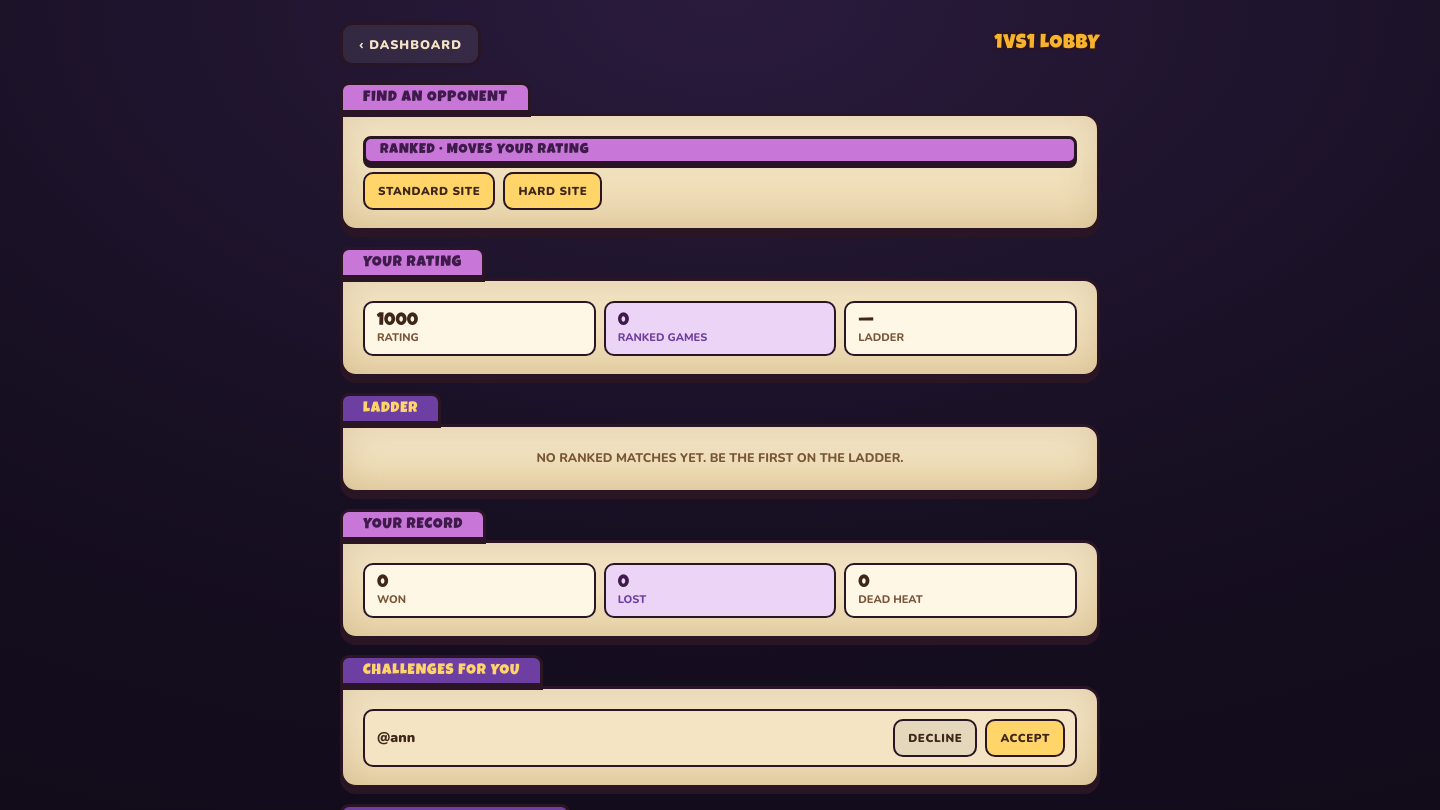
Test: MatchLobby › does not open a challenge the server would not let you accept
Click the button "ACCEPT".
click(1025, 738)  # box [985,719,1065,757]
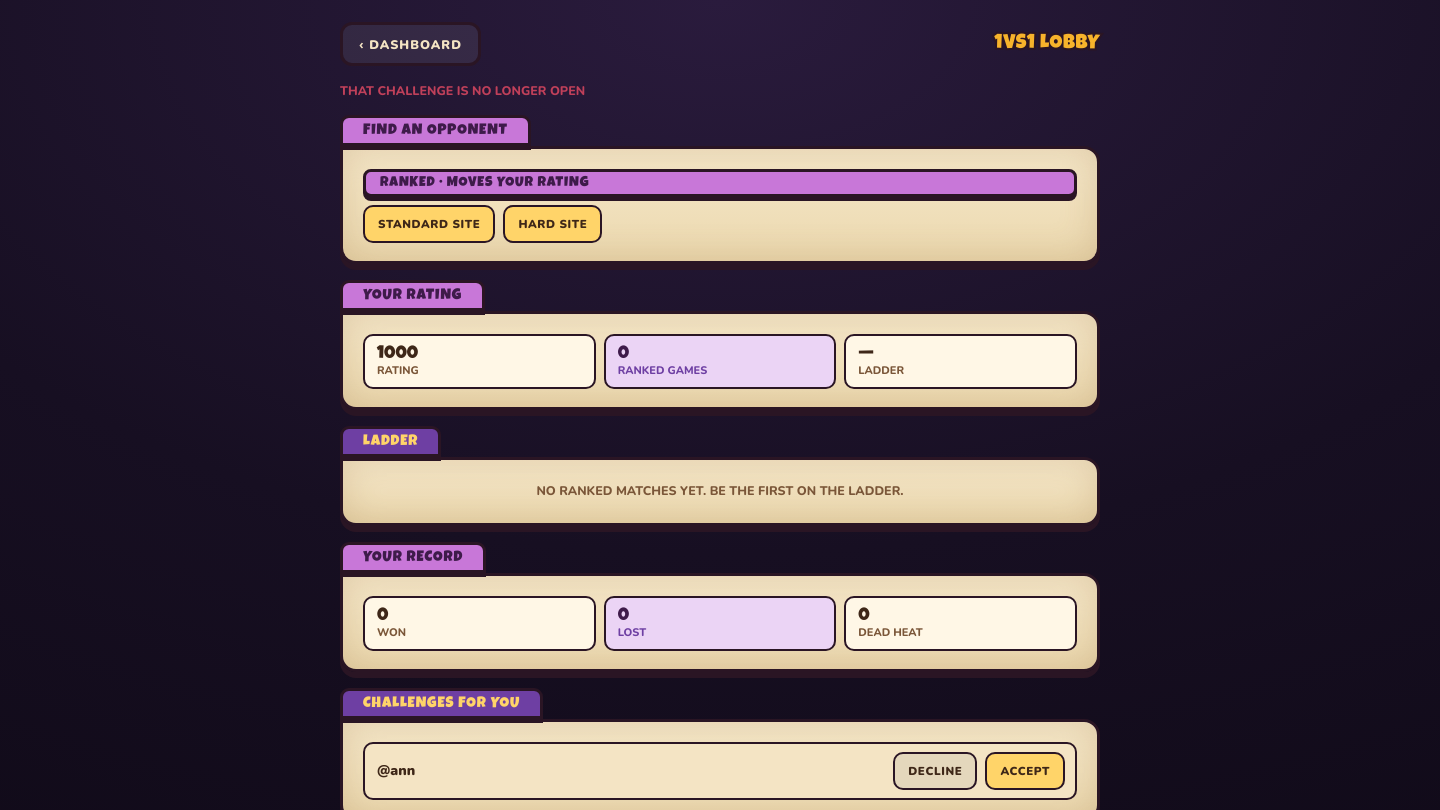
Now the text "THAT CHALLENGE IS NO LONGER OPEN" is shown, box [340,82,585,99]
